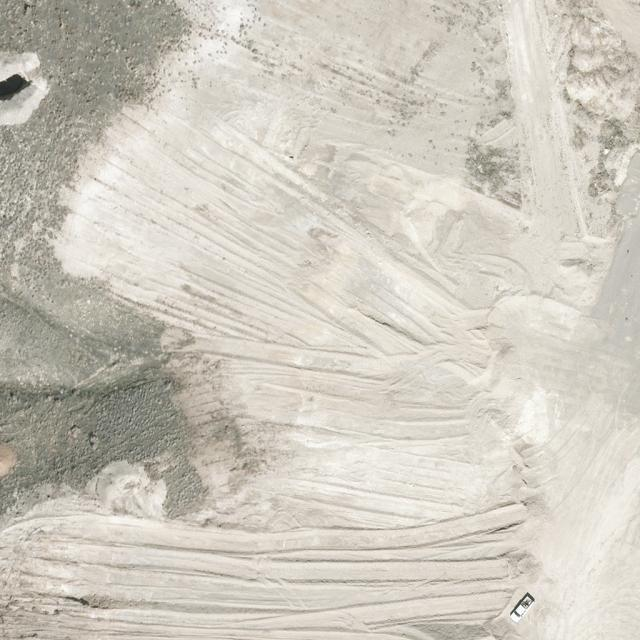vehicle: (508, 596, 536, 624)
